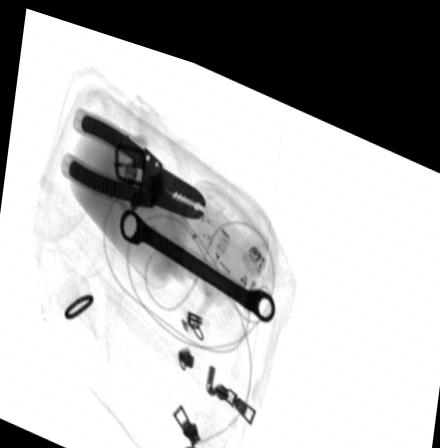Pliers: (67, 108, 207, 208)
Wrench: (119, 199, 277, 306)
